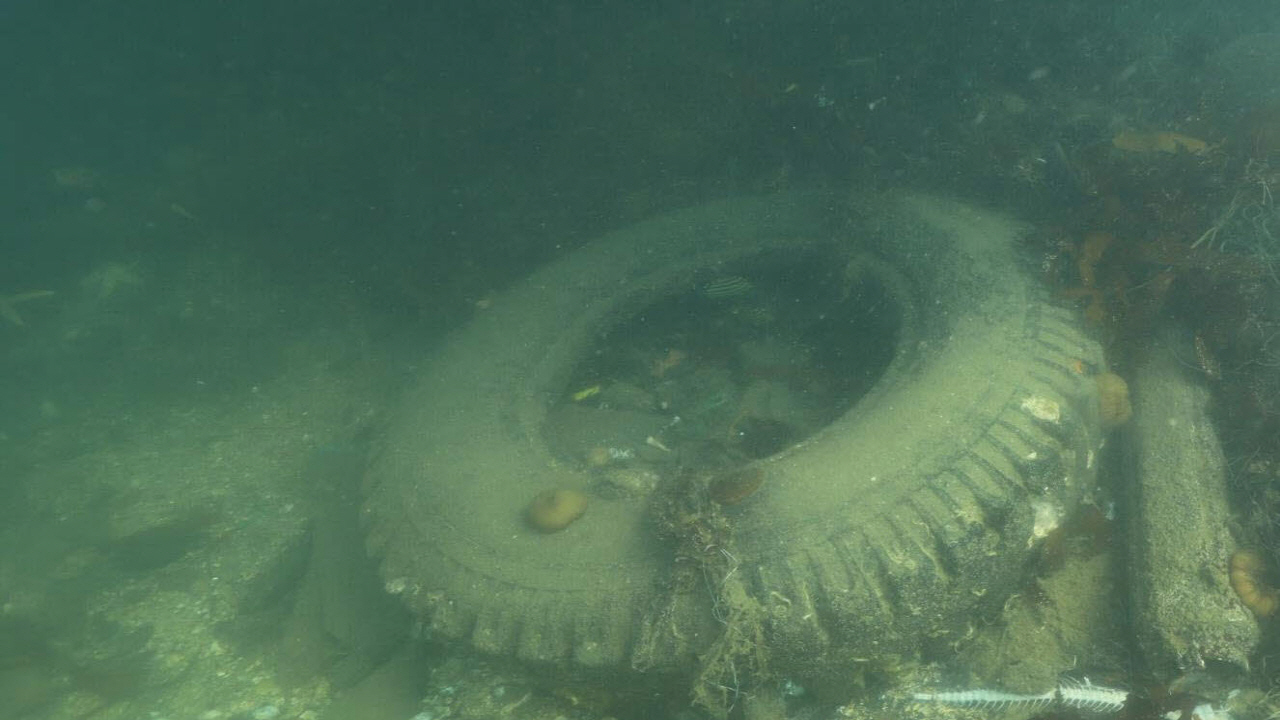eel fish trap: (1133, 317, 1261, 700)
tire: (353, 182, 1109, 720)
